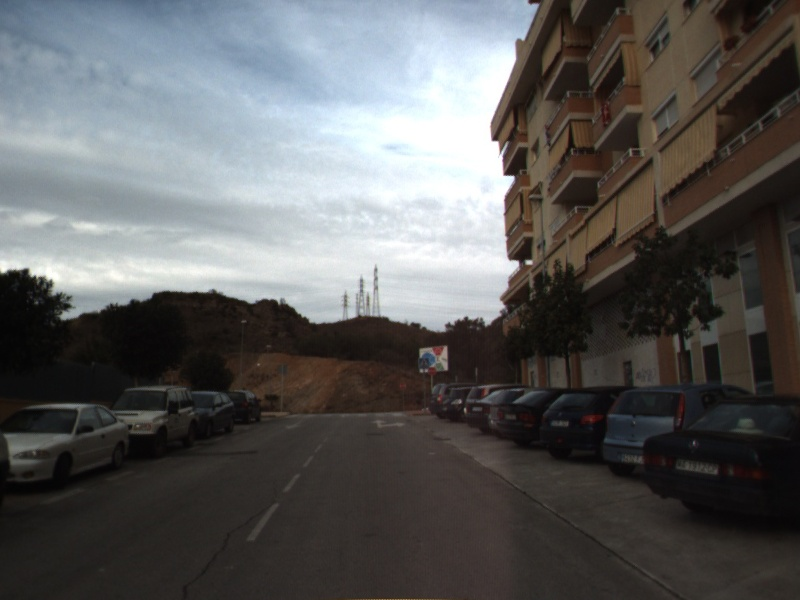STRAIGHT_RIGHT: (368, 417, 408, 430)
